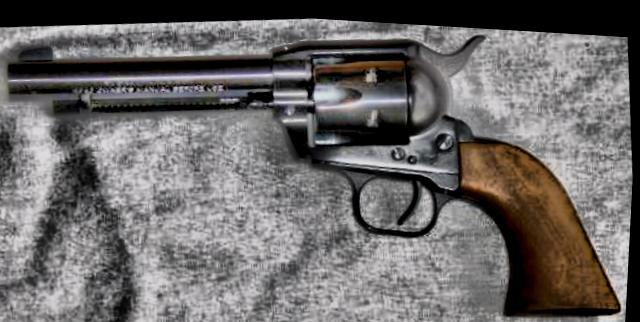pistol: (0, 0, 634, 322)
